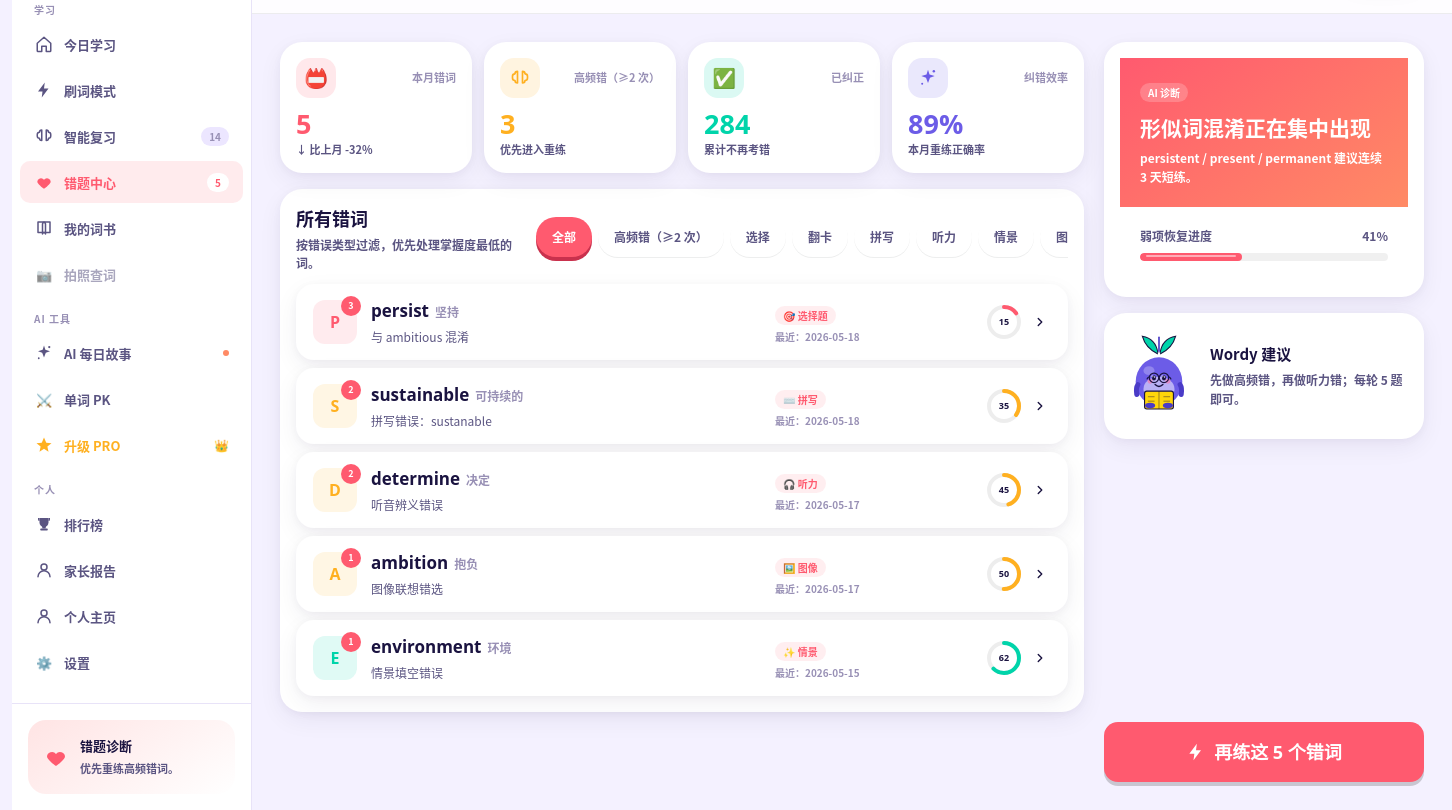
Test: MistakesScreen › routes desktop actions and keeps export on-page
(page scrolled)
Check: the button "P 3 persist 坚持 与 ambitious 混淆 🎯 选择题 最近：2026-05-18 15" is shown, box [296,284,1068,360]
Click the button "再练这 5 个错词" at (1264, 752), box [1104,722,1424,782]
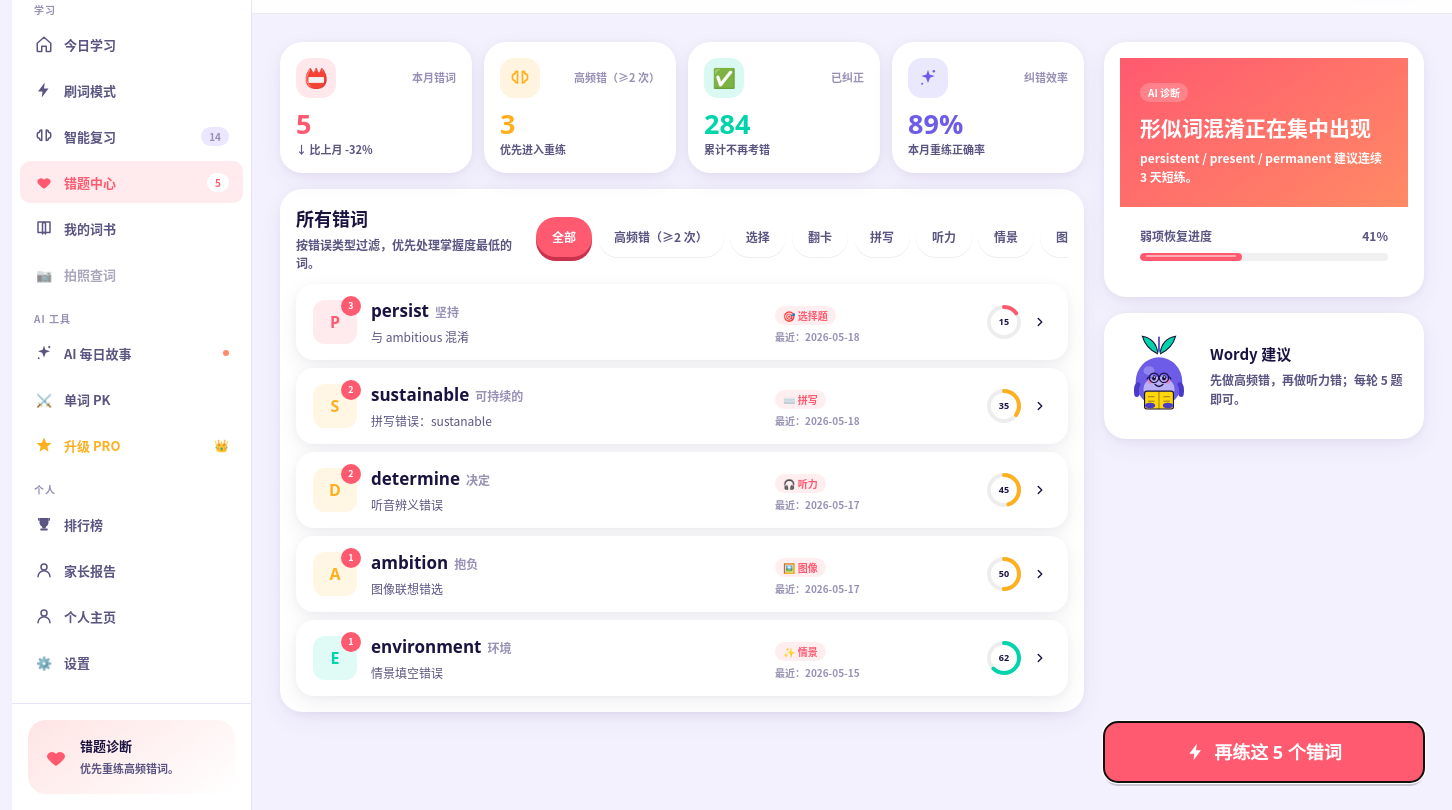
Click the button "今日学习" at (132, 44), box [20,23,243,65]
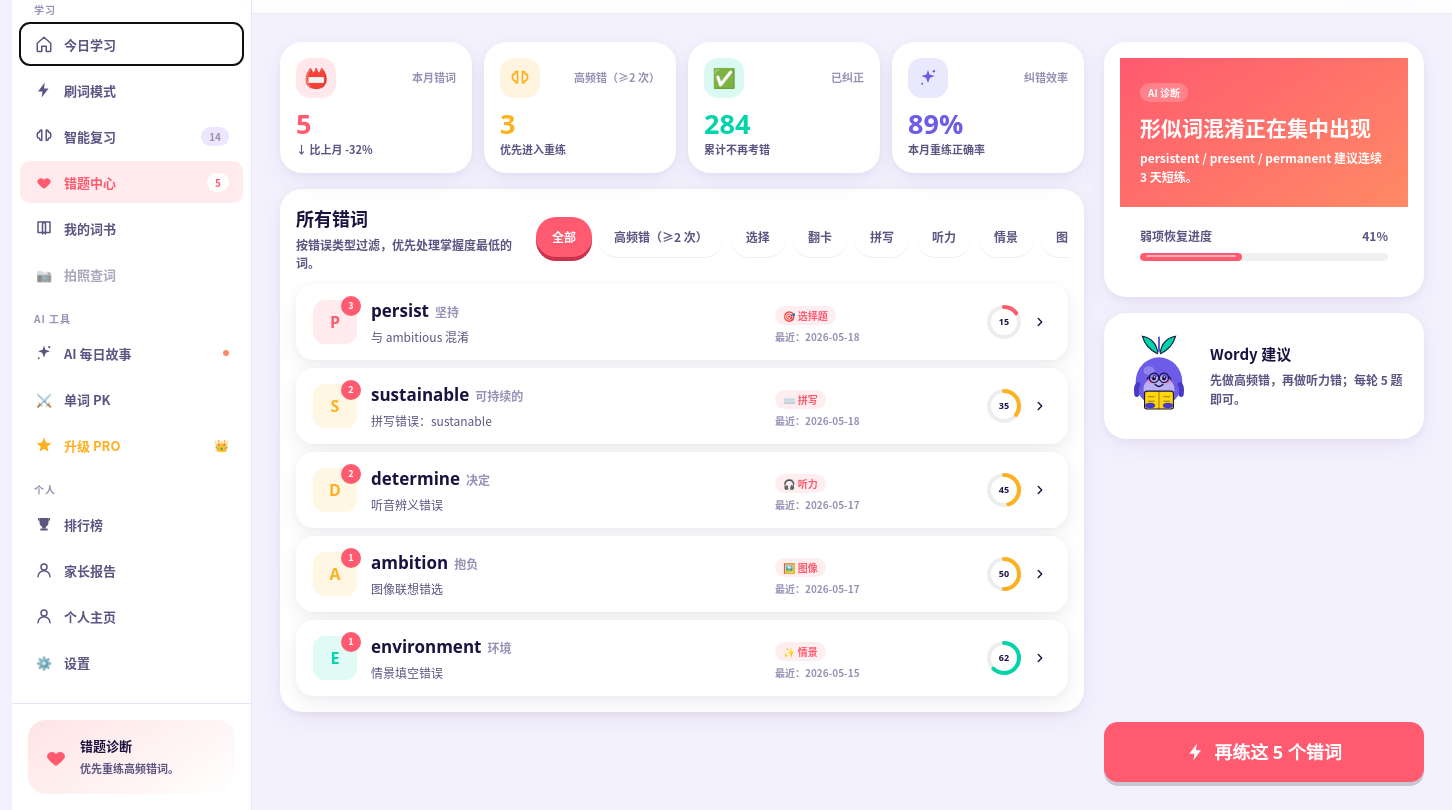
Click the button "我的词书" at (132, 228), box [20,207,243,249]
(page scrolled)
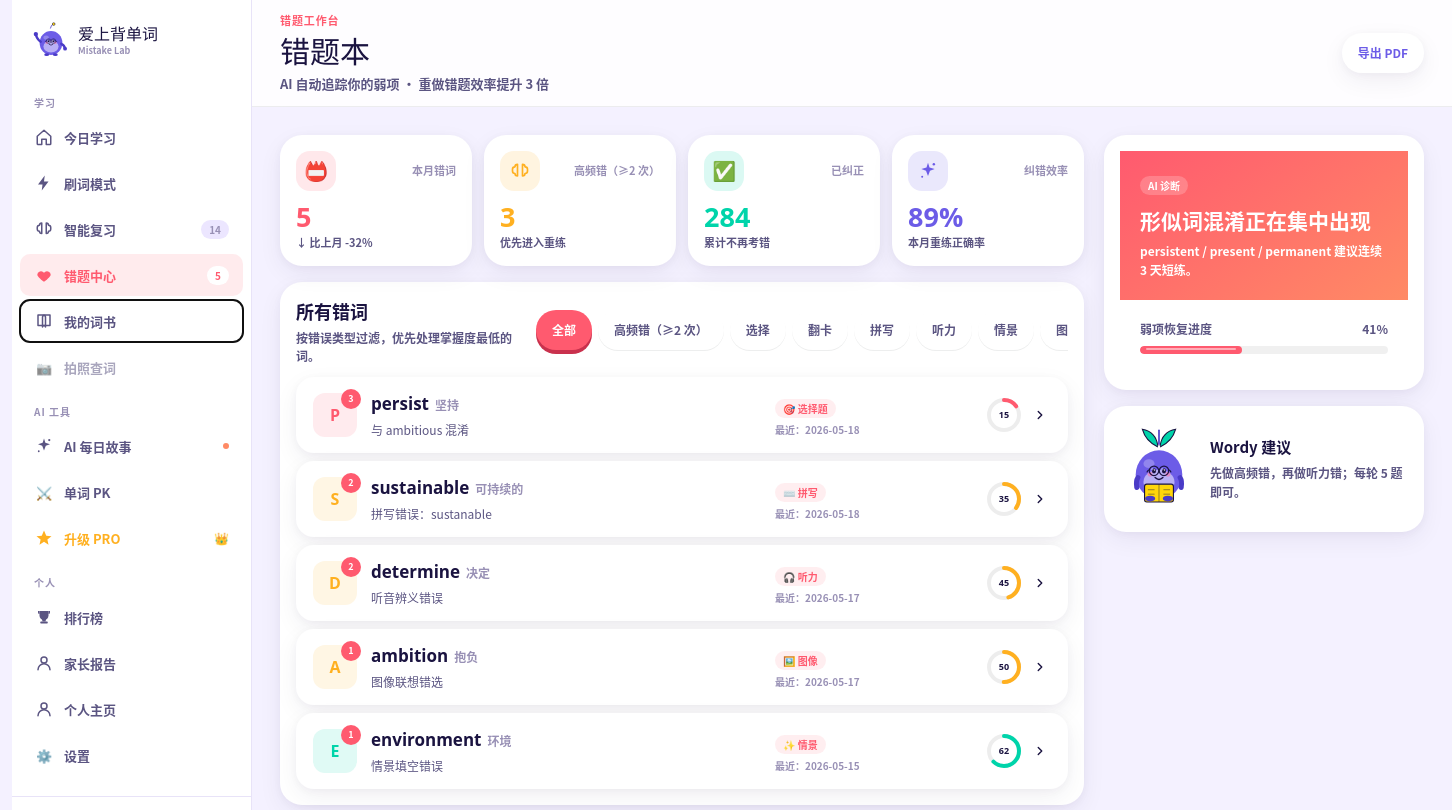
Click the button "导出 PDF" at (1383, 53), box [1342,33,1424,73]
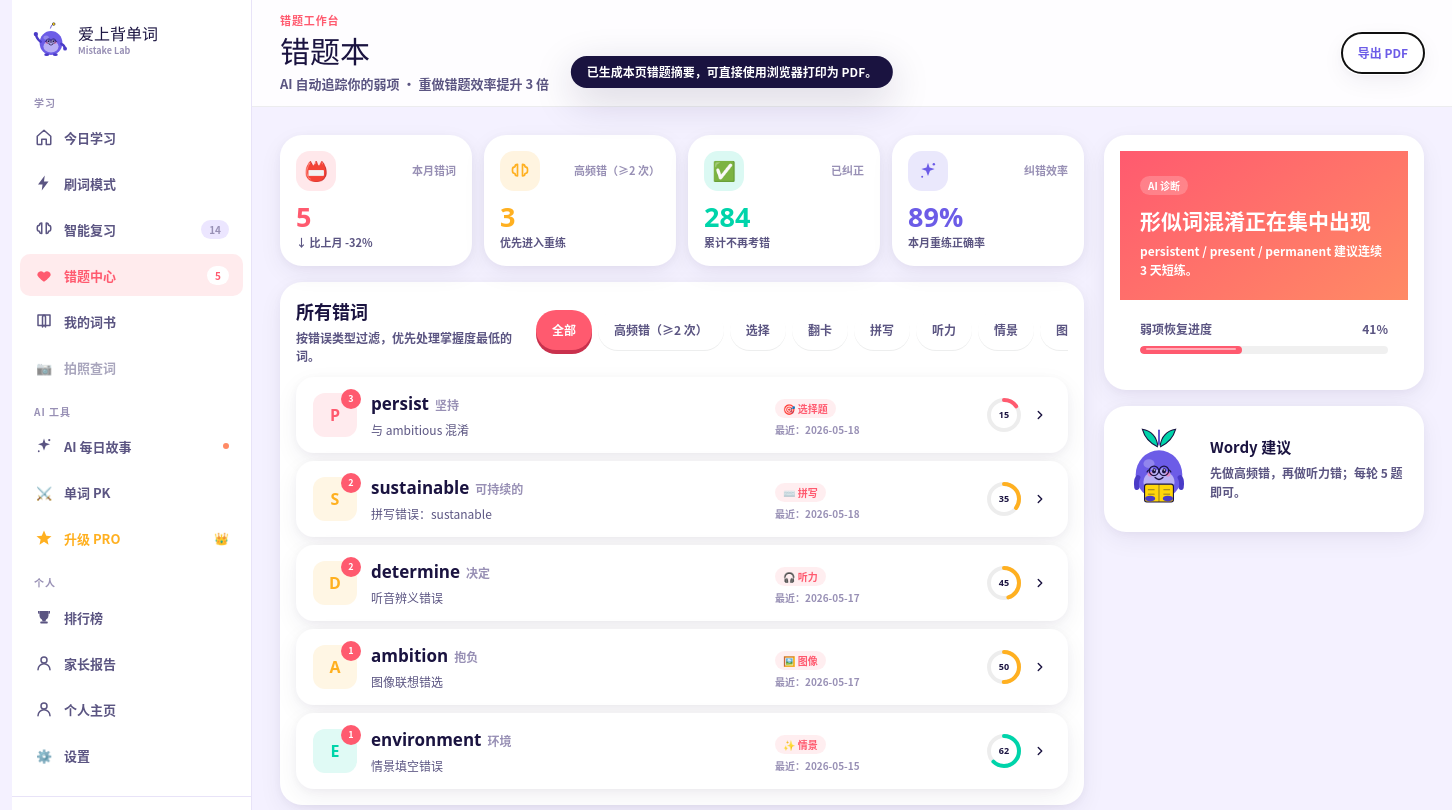
Check: the text "已生成本页错题摘要，可直接使用浏览器打印为 PDF。" is shown, box [571,56,893,88]
